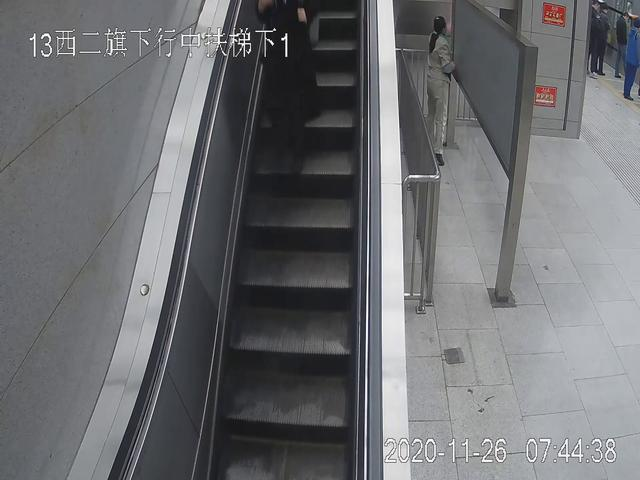person: (422, 16, 455, 165), (591, 3, 608, 78), (624, 21, 640, 100)
